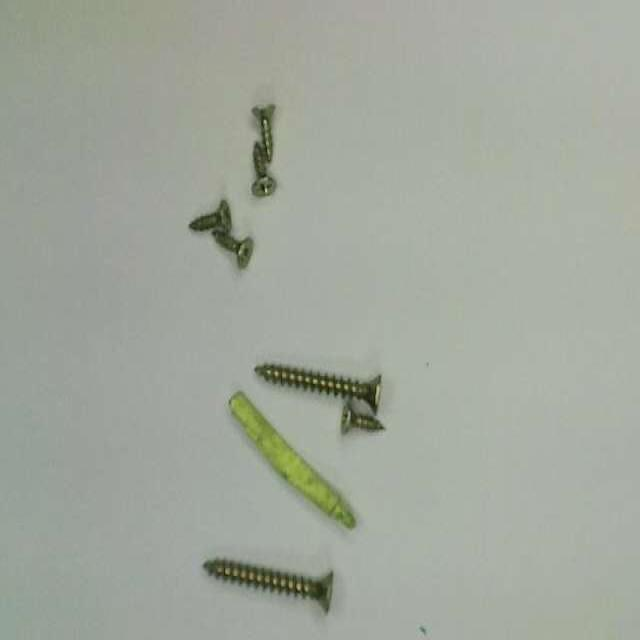Parafuso: (203, 557, 332, 612), (254, 364, 380, 412), (189, 200, 230, 233), (215, 233, 252, 268), (342, 403, 384, 433), (252, 144, 276, 196), (253, 105, 274, 161)
